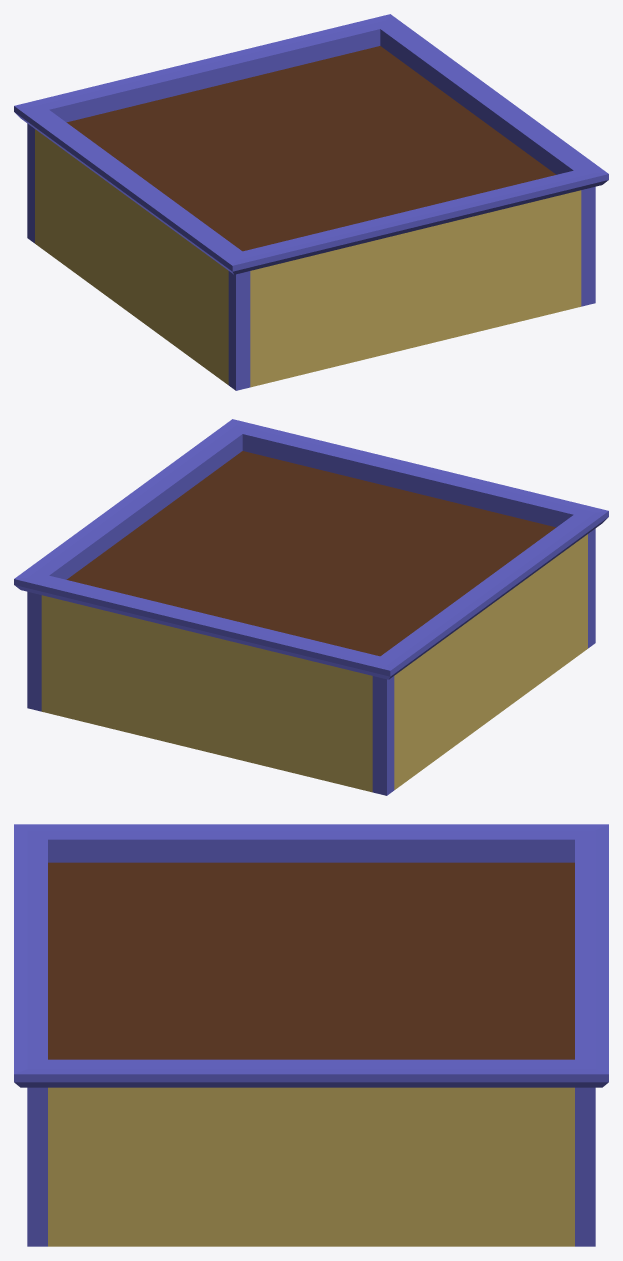
The model's file is Pot2 1.fbx.
3 views of the same model, one above another, from view 1: azimuth 30°, elevation 25°; view 2: azimuth 150°, elevation 25°; view 3: azimuth 270°, elevation 25° (orthographic). The views are drawn at different scales.
Parts seen in each view (by area): view 1: Cube; view 2: Cube; view 3: Cube.
Boxes of the visible parts, x1,y1,x2,y2 form: Cube: (14, 14, 608, 390); Cube: (14, 419, 608, 795); Cube: (14, 824, 608, 1246).
Size of the model in its own units: 604 by 200 by 607.
